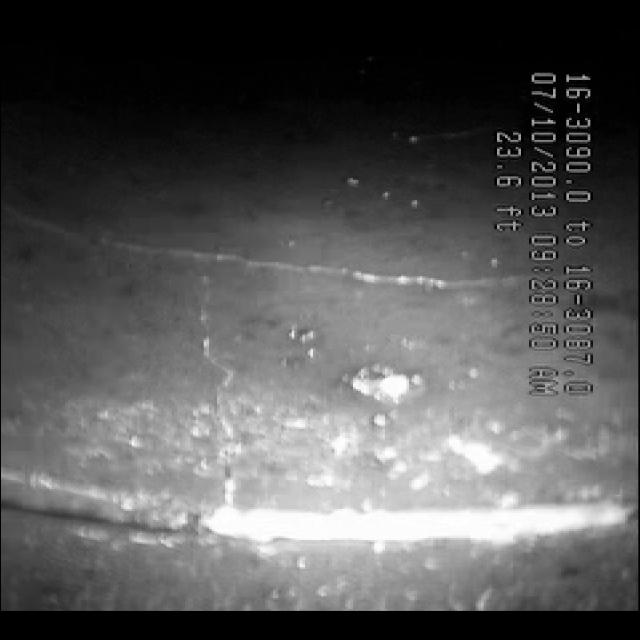Crack: (163, 282, 289, 506)
